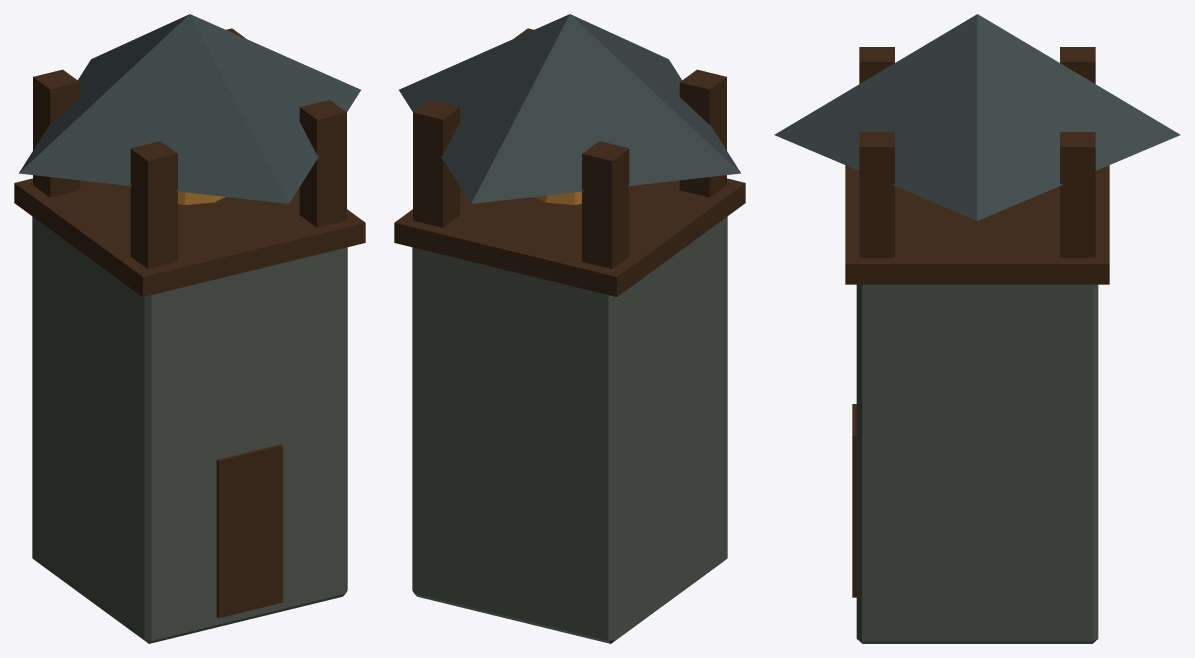
Rendered from SM_ENV_Building_05_BellTower.glb.
The picture shows the model from 3 angles, left to right: view 1: azimuth 30°, elevation 25°; view 2: azimuth 150°, elevation 25°; view 3: azimuth 270°, elevation 25°; orthographic projection. The views are drawn at different scales.
Parts seen in each view (by area): view 1: SM_ENV_Building_05_BellTower; view 2: SM_ENV_Building_05_BellTower; view 3: SM_ENV_Building_05_BellTower.
Boxes of the visible parts, x1,y1,x2,y2 form: SM_ENV_Building_05_BellTower: (14, 14, 365, 643); SM_ENV_Building_05_BellTower: (394, 14, 745, 643); SM_ENV_Building_05_BellTower: (774, 14, 1180, 643).
Bounding box in the file's own units: 3.2 × 5.05 × 3.2.
